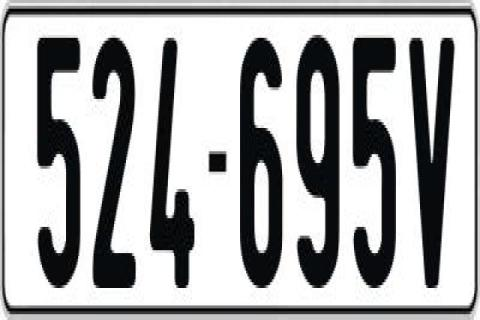0: (149, 32, 201, 294), (294, 35, 344, 305), (38, 29, 87, 282), (350, 35, 398, 291), (93, 32, 137, 288), (238, 38, 280, 297)
V: (406, 29, 454, 285)
